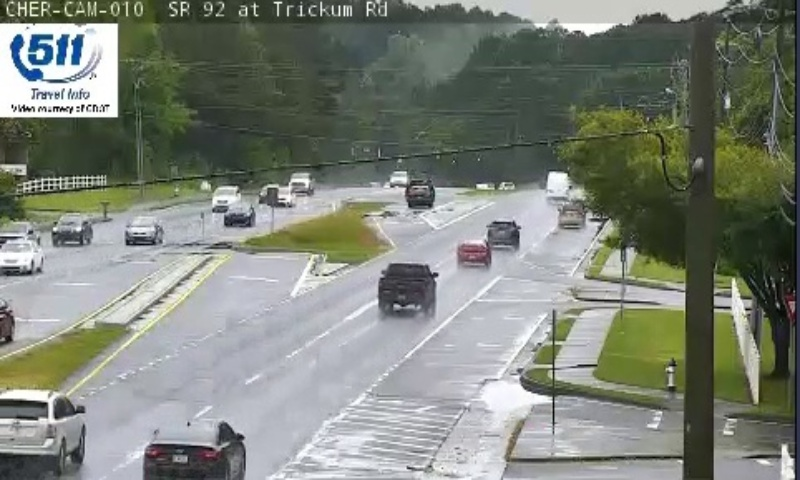car: (144, 420, 247, 478), (1, 389, 82, 461), (378, 263, 434, 312), (456, 238, 491, 265), (486, 220, 519, 247), (557, 202, 585, 229)
